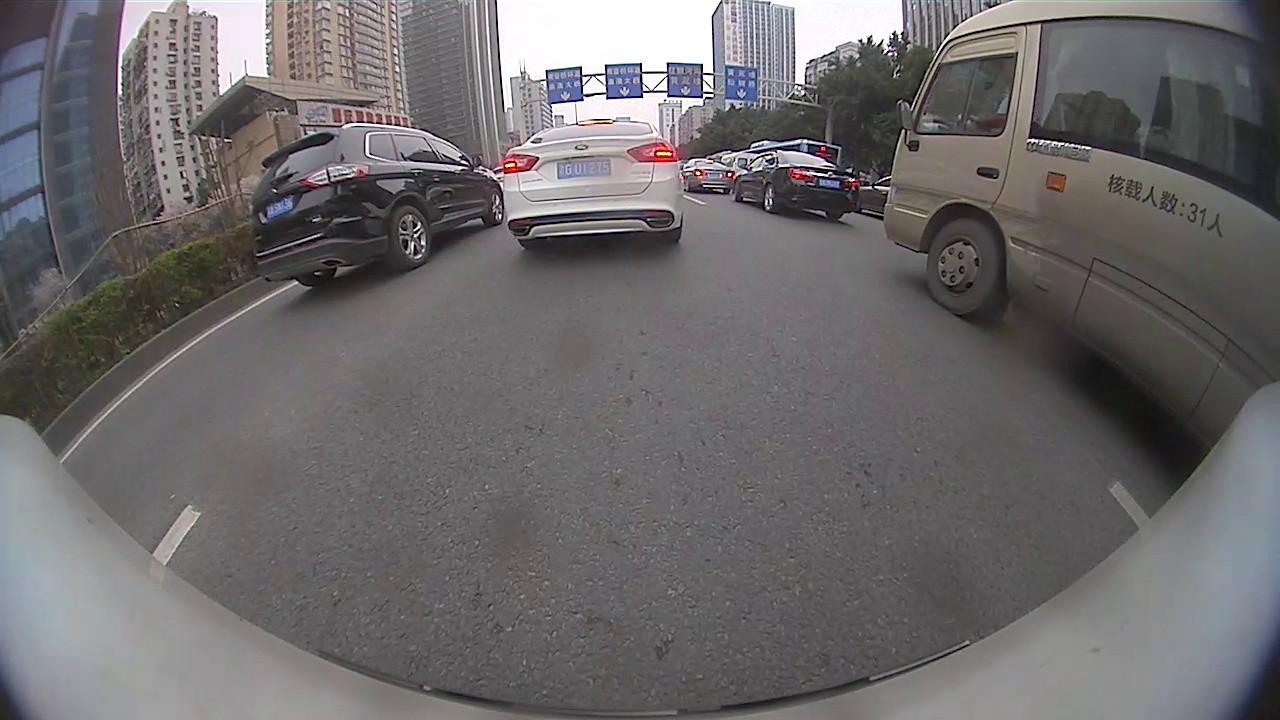bus: (889, 0, 1278, 448), (748, 137, 842, 165)
car: (252, 123, 503, 287), (502, 120, 684, 250), (735, 150, 860, 222), (685, 162, 736, 194), (862, 176, 887, 214)
front: (924, 215, 1009, 318), (482, 183, 506, 226)
rear: (383, 202, 432, 268), (761, 179, 778, 214)
